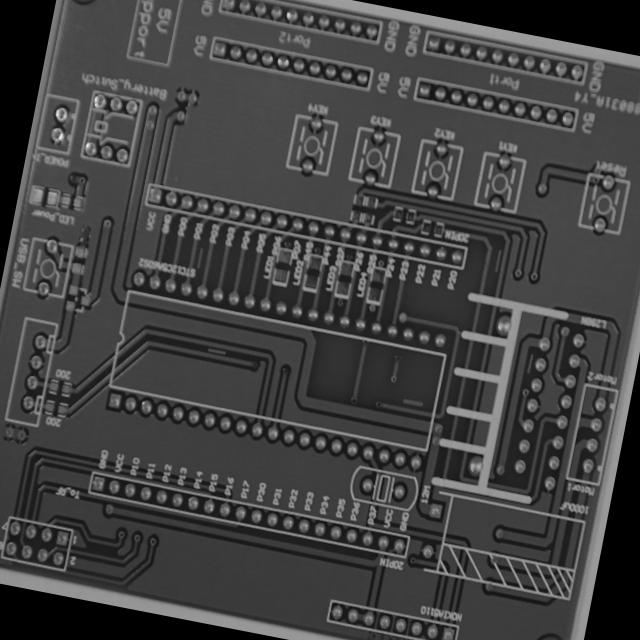spurious_copper: (397, 392, 429, 412), (490, 245, 507, 278), (202, 342, 230, 362), (192, 240, 208, 274), (523, 346, 539, 378)
